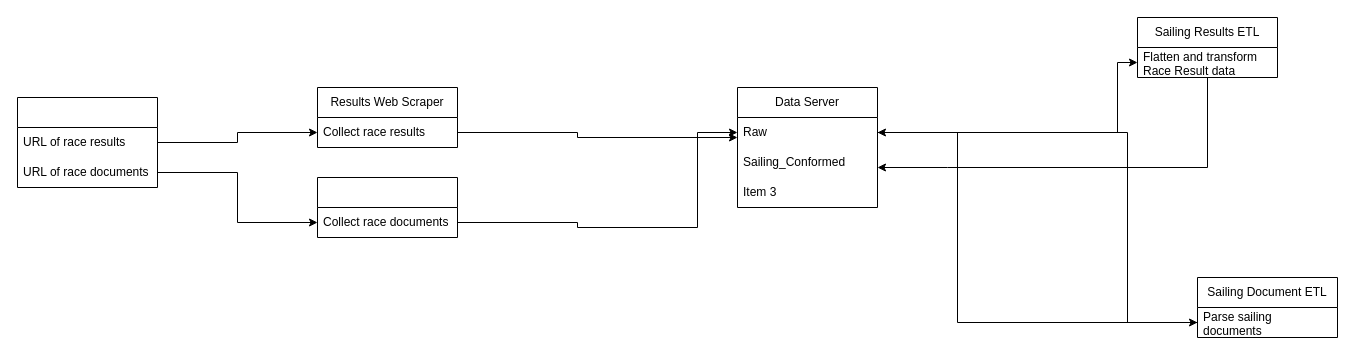
This 1355x355 diagram has some shape labels left out. The shapes that lost their labels are listed below. From the top down, each one's box as (x1, y1, x2, y2) in pixels, then its label:
(16, 96, 158, 188): Web Crawler
(316, 176, 458, 238): Document Web Scraper
